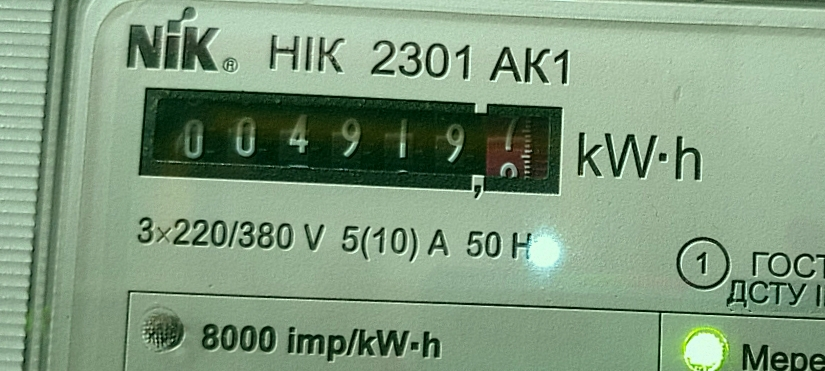0: (232, 113, 260, 159), (181, 116, 206, 161)
1: (394, 115, 411, 161)
4: (285, 111, 311, 155)
7: (496, 113, 521, 153)
9: (442, 120, 467, 167), (338, 116, 363, 161)
screen: (127, 73, 581, 213)
